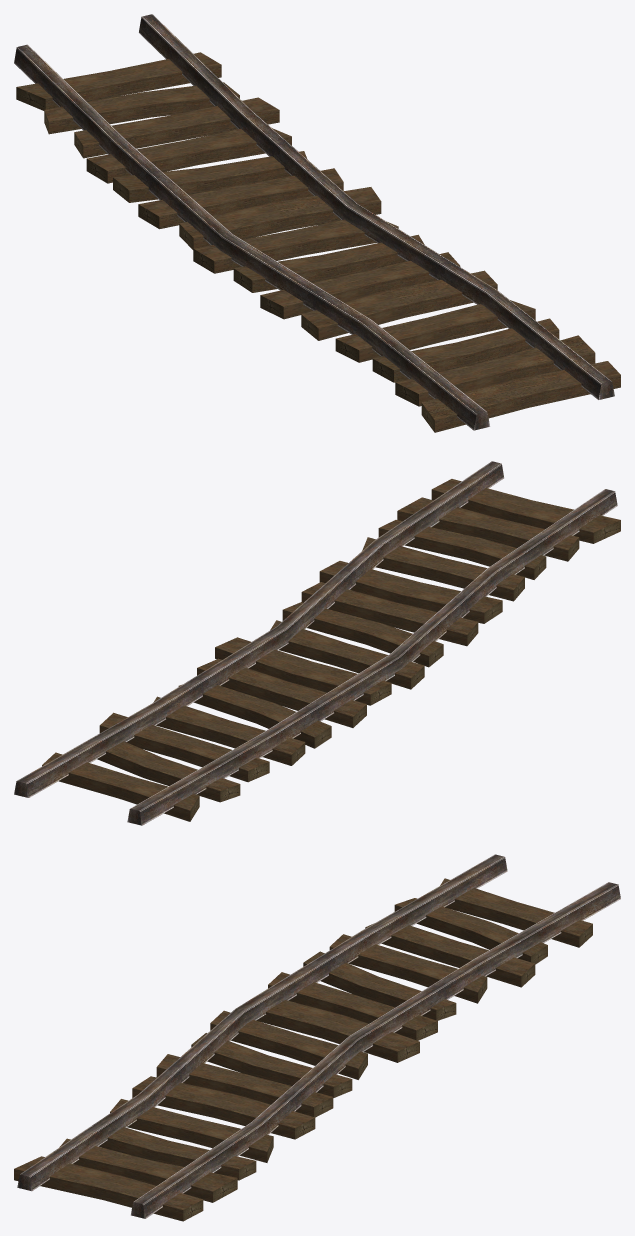
The model's file is environment_Building_kuangkeng_001_a.FBX.
The picture shows the model from 3 angles, top to bottom: view 1: azimuth 30°, elevation 25°; view 2: azimuth 150°, elevation 25°; view 3: azimuth 330°, elevation 25°; orthographic projection. The views are drawn at different scales.
Parts seen in each view (by area): view 1: environment_Building_kuangkeng_001_a; view 2: environment_Building_kuangkeng_001_a; view 3: environment_Building_kuangkeng_001_a.
Boxes of the visible parts, bbox=[...] form: environment_Building_kuangkeng_001_a: bbox=[14, 14, 620, 432]; environment_Building_kuangkeng_001_a: bbox=[14, 461, 620, 825]; environment_Building_kuangkeng_001_a: bbox=[14, 854, 620, 1221].
Bounding box in the file's own units: 272 × 1105 × 31.44.
